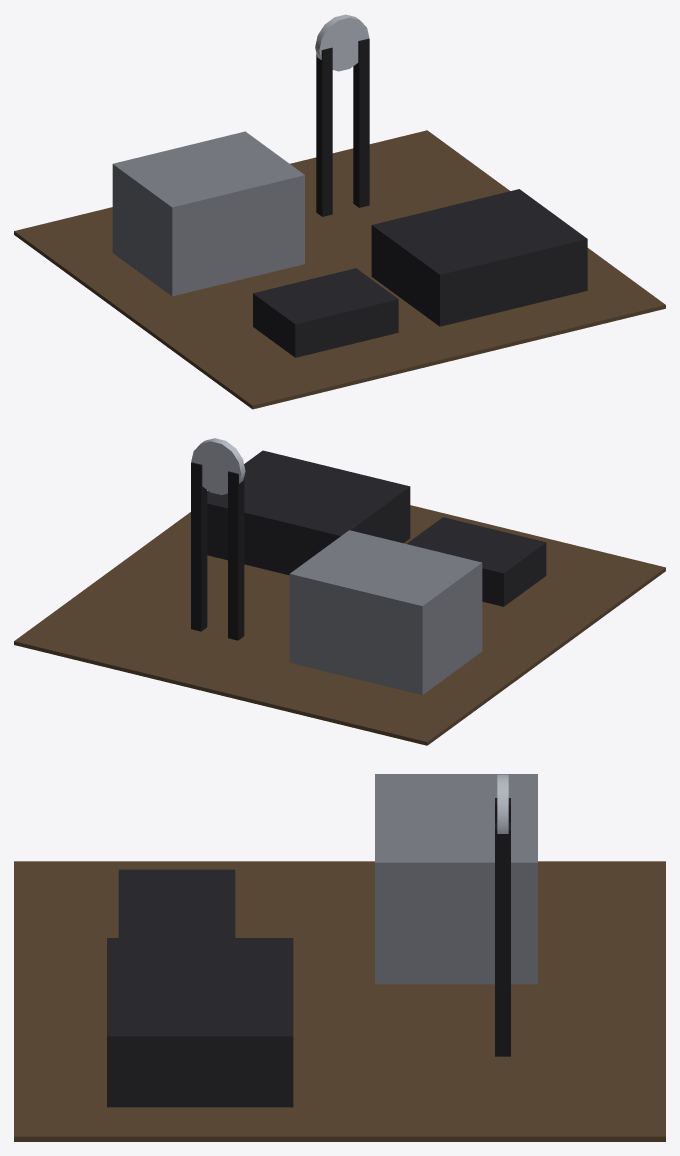
The model's file is coal_mine.glb.
The picture shows the model from 3 angles, top to bottom: view 1: azimuth 30°, elevation 25°; view 2: azimuth 150°, elevation 25°; view 3: azimuth 270°, elevation 25°; orthographic projection. The views are drawn at different scales.
Parts seen in each view (by area): view 1: Pad, Shed, CoalPile, CoalPile2, Headframeleg1, Headframeleg2, Wheel; view 2: Pad, Shed, CoalPile, CoalPile2, Headframeleg1, Headframeleg2, Wheel; view 3: Pad, CoalPile, Shed, CoalPile2, Headframeleg2, Wheel.
Part boxes in pixels (box(x1,y1,x2,y2)): Pad: box(14, 130, 665, 409); Shed: box(112, 131, 304, 296); CoalPile: box(371, 189, 587, 326); CoalPile2: box(253, 268, 398, 357); Headframeleg1: box(316, 47, 332, 216); Headframeleg2: box(353, 38, 369, 207); Wheel: box(315, 14, 369, 71); Pad: box(14, 505, 665, 745); Shed: box(289, 530, 482, 694); CoalPile: box(207, 450, 410, 575); CoalPile2: box(407, 517, 546, 606); Headframeleg1: box(228, 471, 244, 640); Headframeleg2: box(191, 462, 207, 631); Wheel: box(191, 438, 245, 494); Pad: box(14, 861, 665, 1141); CoalPile: box(107, 938, 293, 1107); Shed: box(375, 774, 537, 984); CoalPile2: box(118, 869, 235, 937); Headframeleg2: box(495, 822, 510, 1056); Wheel: box(497, 774, 508, 833).
Size of the model in its own units: 2.8 by 1.27 by 2.8.
